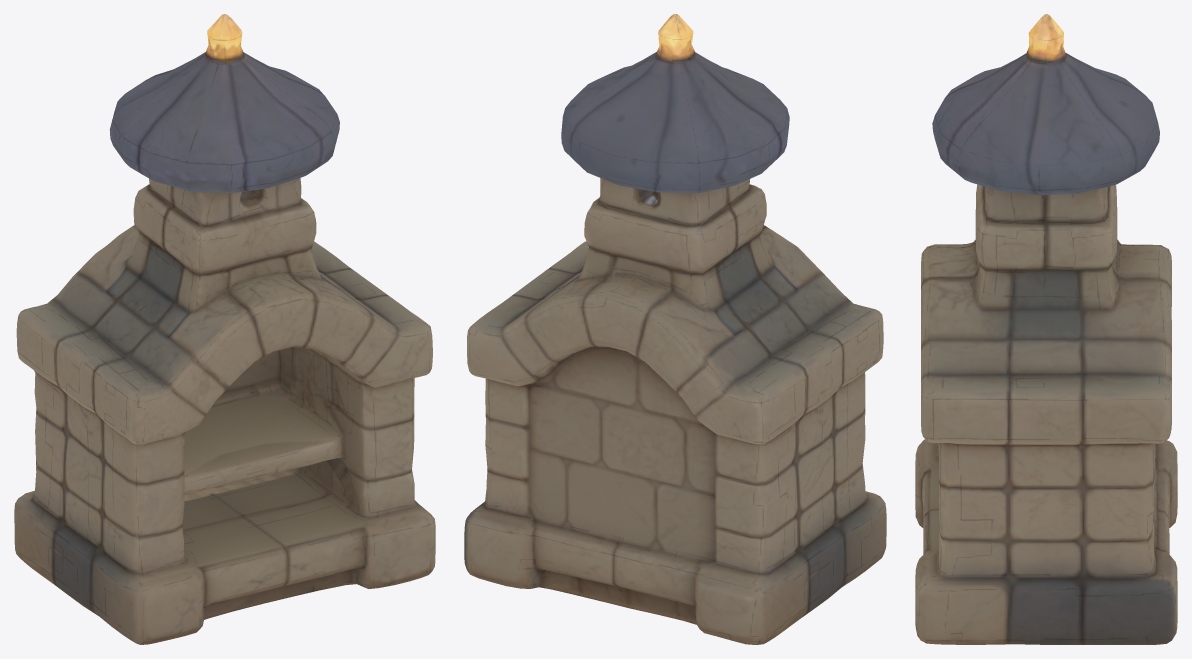
Rendered from CrumbOven.fbx.
3 views of the same model, side by side, from view 1: azimuth 30°, elevation 25°; view 2: azimuth 150°, elevation 25°; view 3: azimuth 270°, elevation 25° (orthographic).
Visible parts, largest first — view 1: RETOPO; view 2: RETOPO; view 3: RETOPO.
Boxes of the visible parts, x1,y1,x2,y2 form: RETOPO: (14, 14, 435, 644); RETOPO: (464, 14, 886, 644); RETOPO: (915, 14, 1177, 644).
Size of the model in its own units: 57.55 by 99.89 by 42.35.
